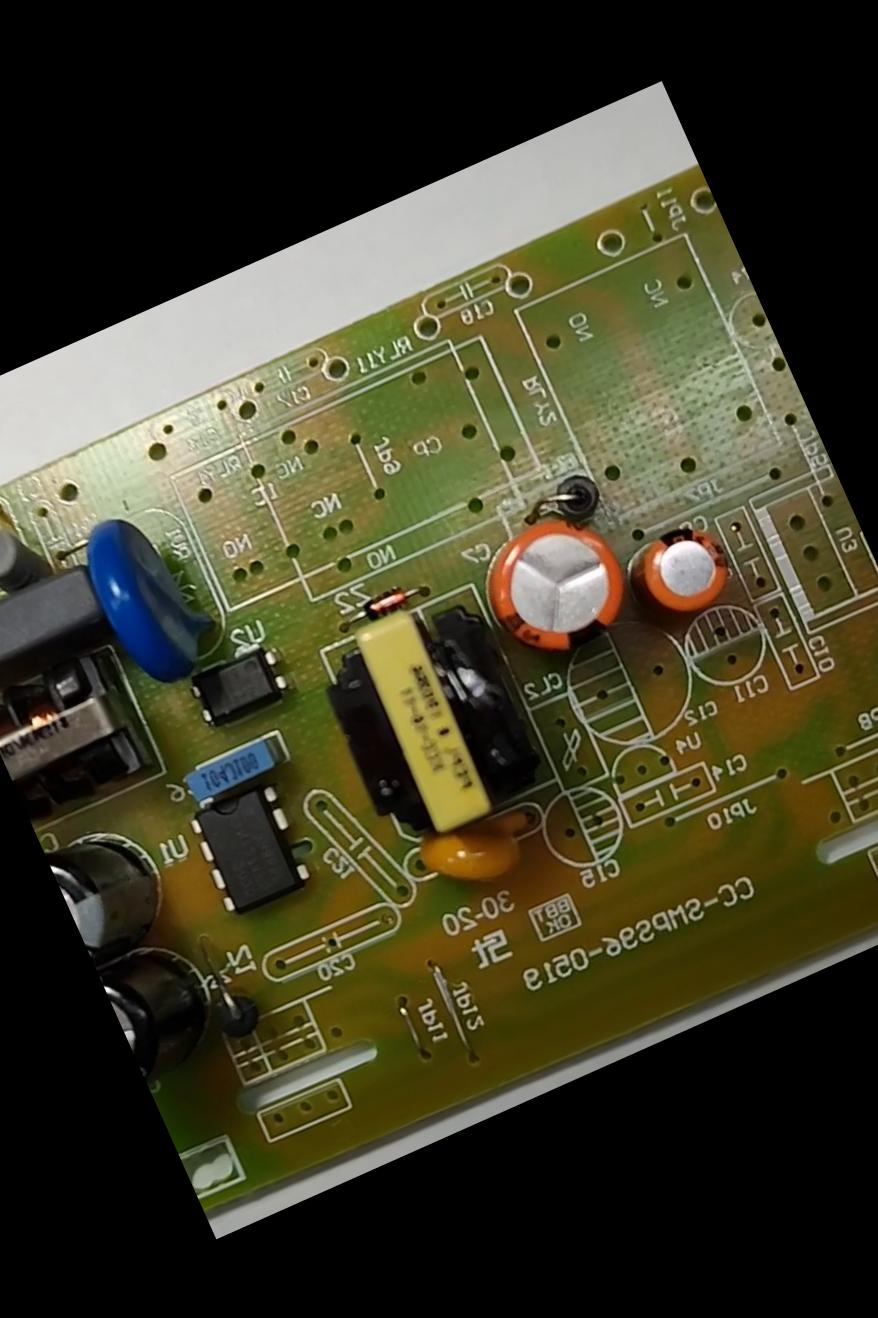Cap1: (457, 475, 658, 688)
Cap2: (606, 498, 756, 651)
Cap3: (40, 804, 185, 971)
Cap4: (91, 911, 263, 1109)
MOSFET: (173, 756, 337, 931)
Mov: (46, 480, 251, 710)
Resistor: (0, 476, 67, 617)
Transformer: (292, 559, 584, 875), (0, 631, 169, 830)
